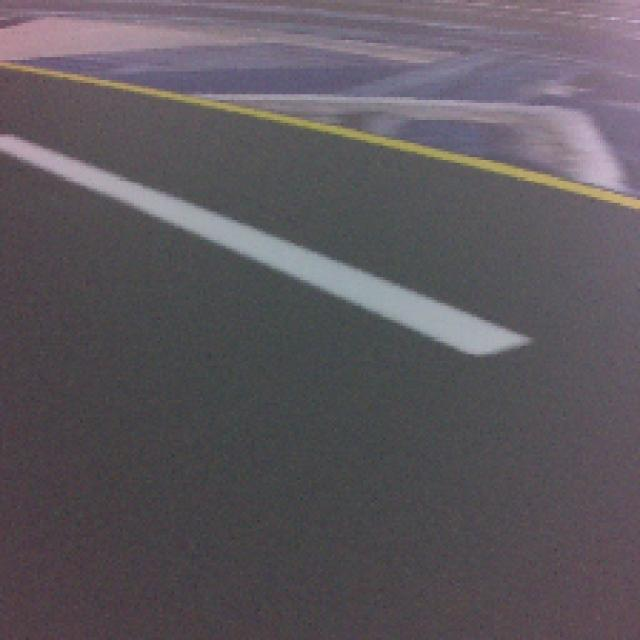Pedestrian crosswalk: (0, 129, 529, 359)
